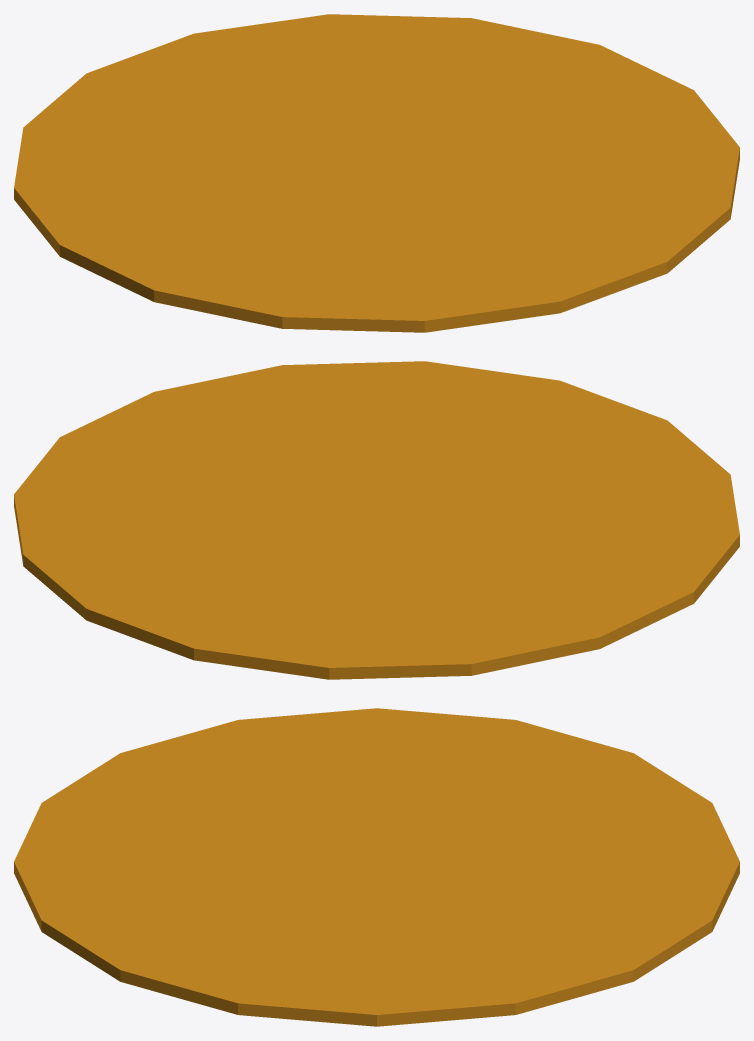
The model's file is Platform_Trim.obj.
The picture shows the model from 3 angles, top to bottom: view 1: azimuth 30°, elevation 25°; view 2: azimuth 150°, elevation 25°; view 3: azimuth 270°, elevation 25°; orthographic projection.
Visible parts, largest first — view 1: Platform_Trim; view 2: Platform_Trim; view 3: Platform_Trim.
Part boxes in pixels (x1=…): Platform_Trim: x1=14, y1=14, x2=739, y2=332; Platform_Trim: x1=14, y1=361, x2=739, y2=679; Platform_Trim: x1=14, y1=708, x2=739, y2=1026.
Size of the model in its own units: 6.76 by 0.12 by 6.76.
